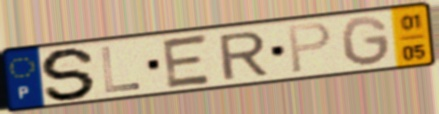E: (160, 32, 215, 90)
G: (338, 14, 393, 68)
L: (98, 45, 143, 95)
P: (286, 20, 334, 76)
R: (216, 29, 271, 82)
S: (38, 46, 100, 102)
